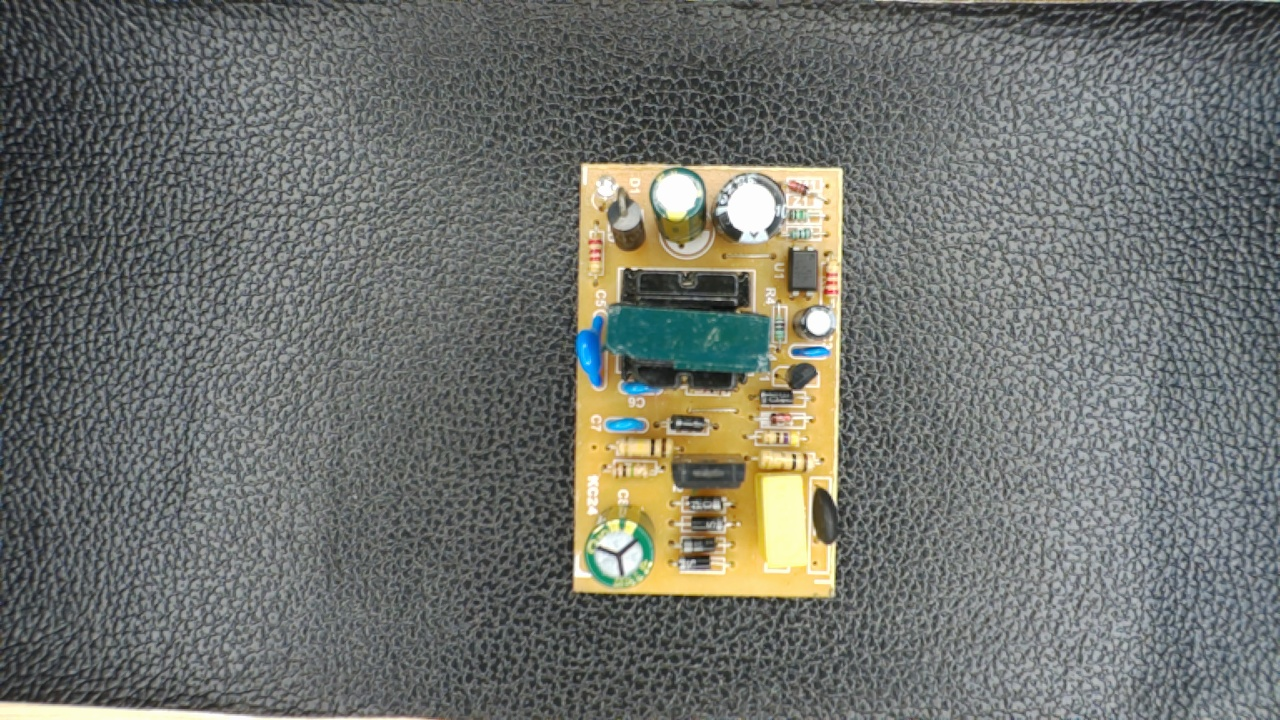fuse: (809, 482, 839, 549)
hv_capacitor: (582, 504, 659, 591)
mov: (573, 309, 611, 390)
optocoupler: (786, 245, 821, 300)
